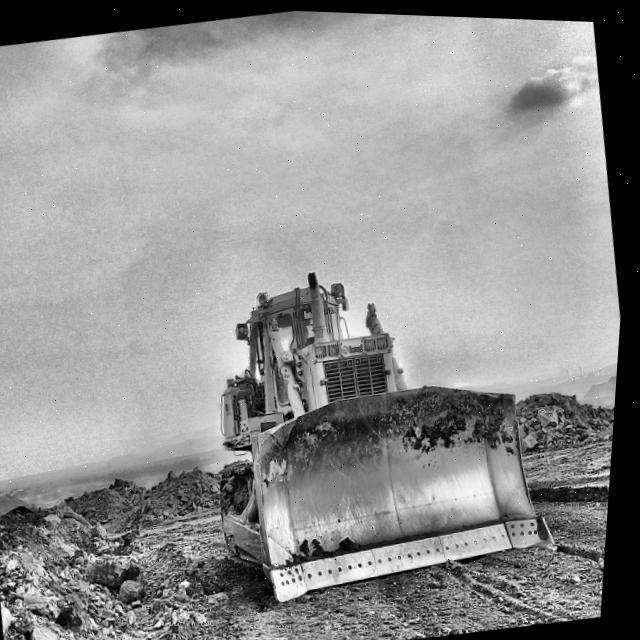buldozerpayloadergrader: (227, 277, 557, 599)
